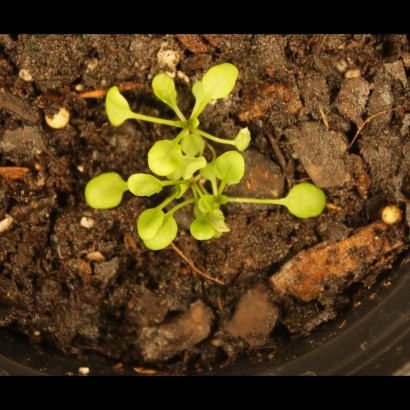leaf: (281, 180, 330, 222), (82, 167, 127, 212), (99, 85, 138, 130), (203, 61, 241, 101), (121, 168, 167, 201), (144, 213, 181, 252), (147, 135, 182, 175), (214, 146, 248, 186), (133, 203, 165, 243), (149, 73, 181, 110), (190, 214, 220, 243), (180, 130, 209, 160), (189, 78, 214, 110), (232, 126, 258, 154), (181, 153, 209, 178), (196, 194, 220, 220)
